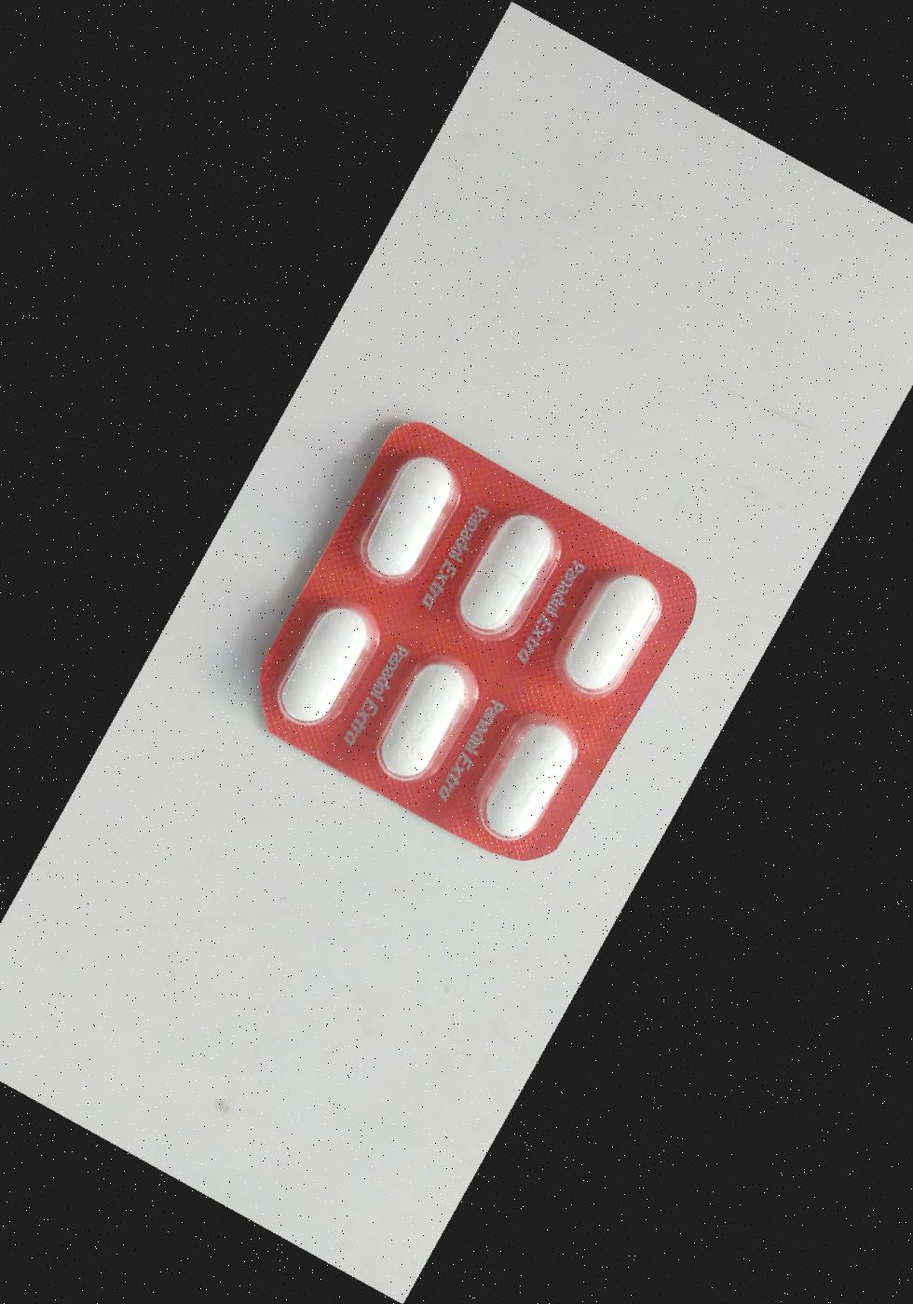Full: (349, 634, 493, 801), (250, 586, 394, 753), (335, 435, 479, 602), (454, 690, 597, 858), (540, 546, 683, 713), (432, 490, 575, 657)
